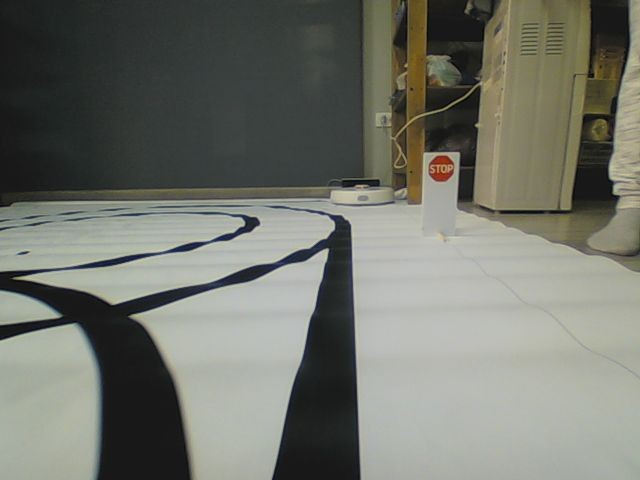Stop: (428, 154, 457, 182)
